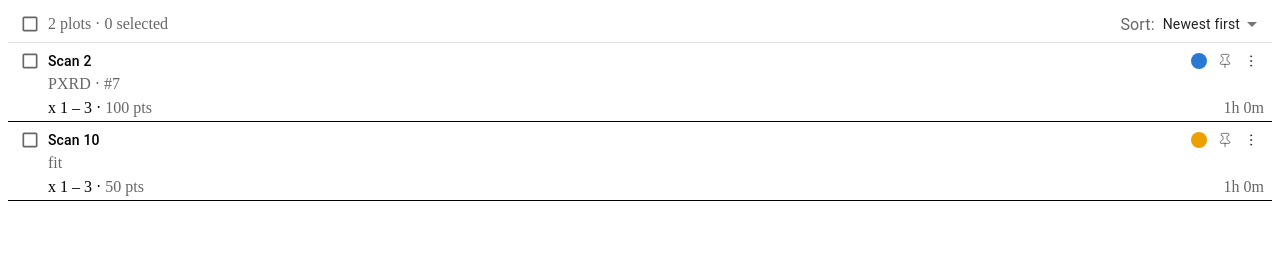
Test: PlotList › starts a rename from the row menu
Click the button named "More actions for Scan 10" at (1251, 140), box [1238,127,1264,153]
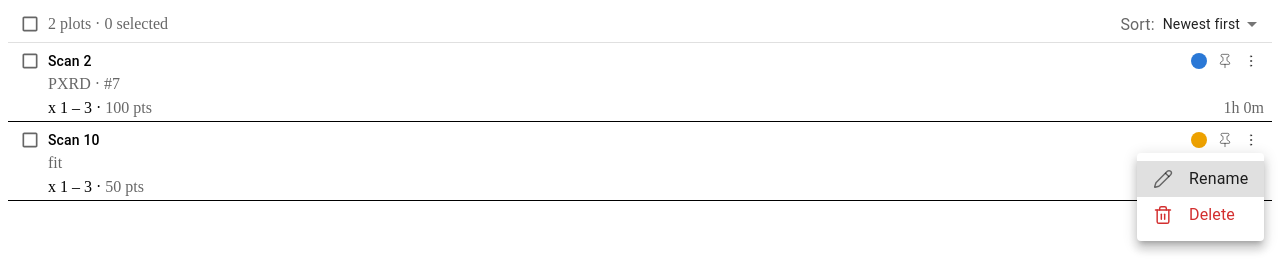
Click the menu item "Rename" at (1201, 179), box [1137,161,1264,197]
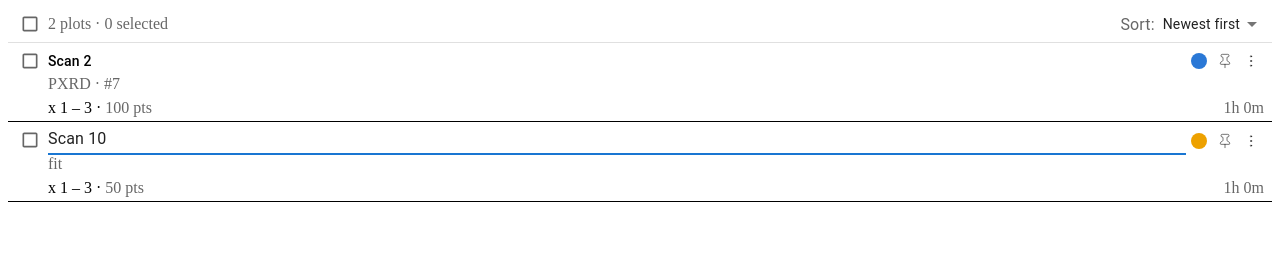
Check: the field named "Rename Scan 10" is shown, box [48,126,1186,155]
